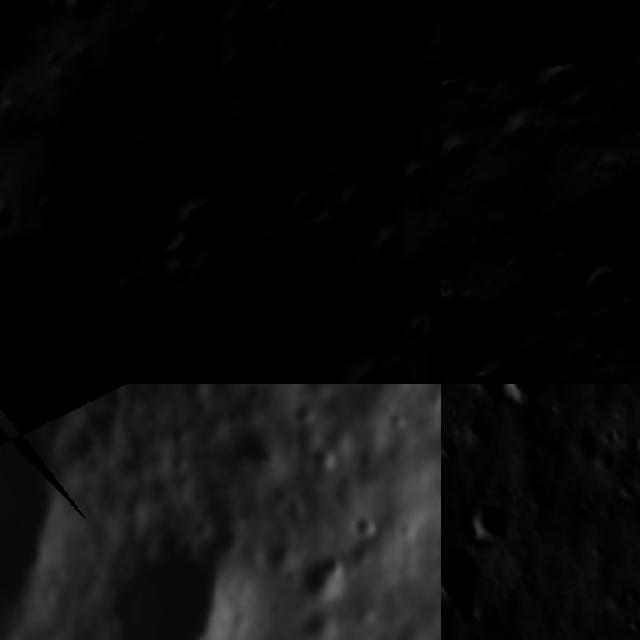crater: (542, 154, 640, 263), (453, 275, 550, 372), (557, 243, 640, 329), (519, 44, 592, 117), (296, 201, 362, 272), (485, 105, 545, 165), (508, 0, 594, 41), (276, 176, 336, 231), (441, 542, 488, 607), (441, 267, 476, 354), (556, 84, 610, 138), (47, 0, 111, 39), (329, 178, 378, 228), (462, 51, 511, 100), (468, 501, 516, 549), (0, 177, 33, 246), (441, 128, 482, 182), (395, 150, 441, 198), (393, 0, 441, 46), (499, 384, 562, 418), (464, 349, 525, 384), (464, 410, 501, 452), (621, 33, 640, 96), (295, 397, 322, 440), (311, 438, 340, 477), (441, 70, 469, 107), (469, 384, 509, 407), (352, 516, 383, 545), (441, 435, 465, 468), (246, 384, 266, 416), (615, 0, 640, 24), (441, 97, 455, 134), (581, 0, 627, 10), (632, 431, 640, 462)
